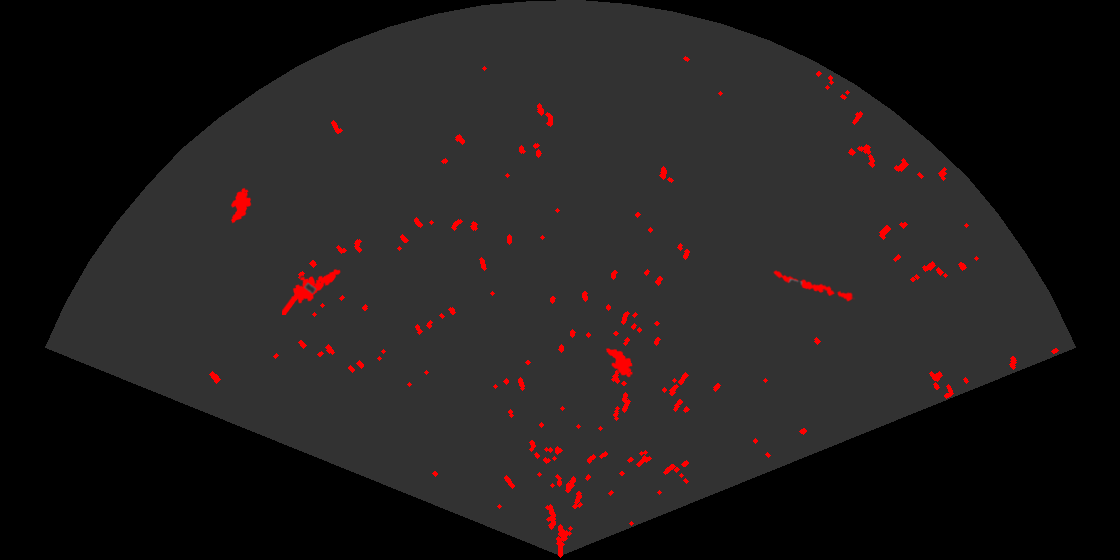AUV: (604, 346, 634, 379), (229, 186, 253, 225)
chain: (771, 269, 855, 303)
frogman: (282, 267, 342, 315)
